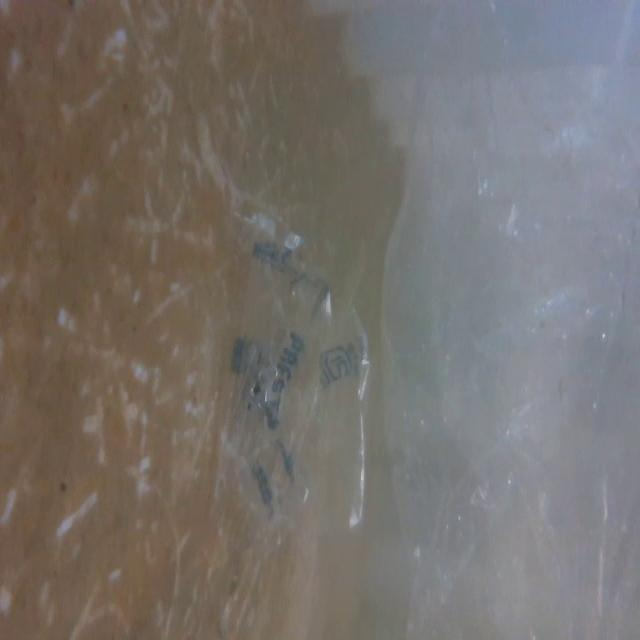plastic bags: (232, 212, 374, 562)
